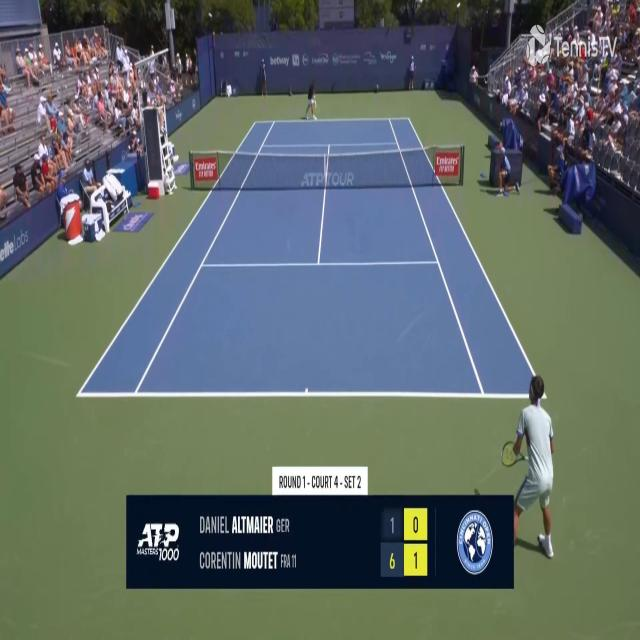tennis-player: (499, 371, 558, 556), (303, 76, 319, 122)
